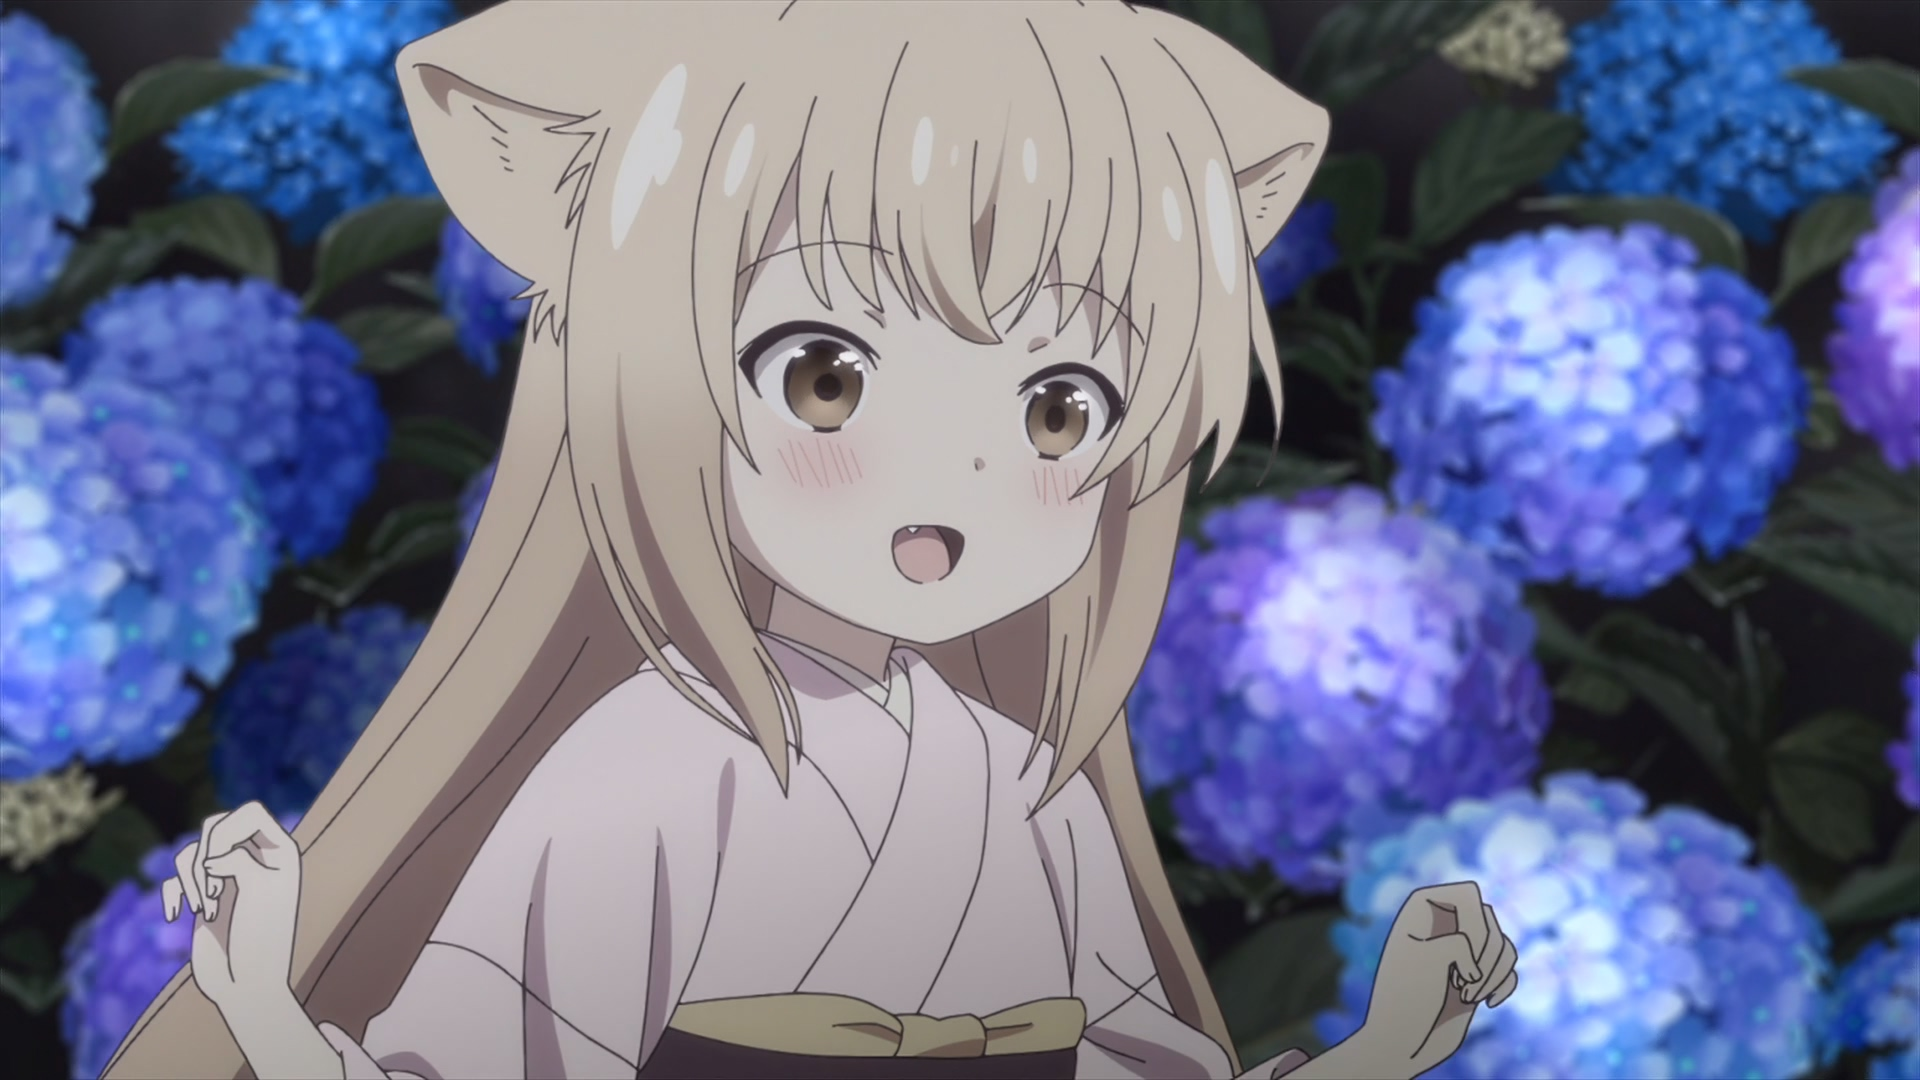柚: (98, 1, 1516, 1080)
